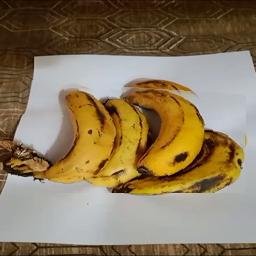Banana Semifresh: (12, 79, 247, 193)
